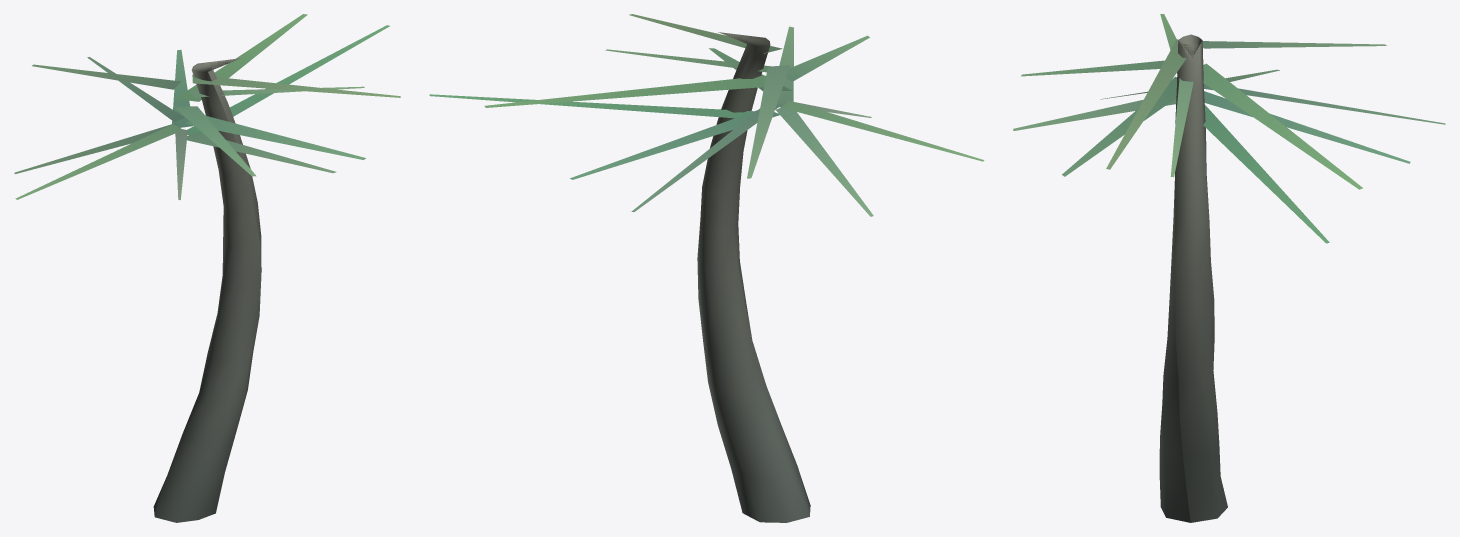
File: spire_tree.glb
3 renders of one model, left to right at view 1: azimuth 30°, elevation 25°; view 2: azimuth 150°, elevation 25°; view 3: azimuth 270°, elevation 25°, orthographic. The views are drawn at different scales.
Parts seen in each view (by area): view 1: spire_tree; view 2: spire_tree; view 3: spire_tree.
Part boxes in pixels (x1=…): spire_tree: x1=14, y1=14, x2=400, y2=522; spire_tree: x1=429, y1=14, x2=984, y2=522; spire_tree: x1=1013, y1=14, x2=1445, y2=522.
Bounding box in the file's own units: 6.66 × 6.2 × 5.1.
